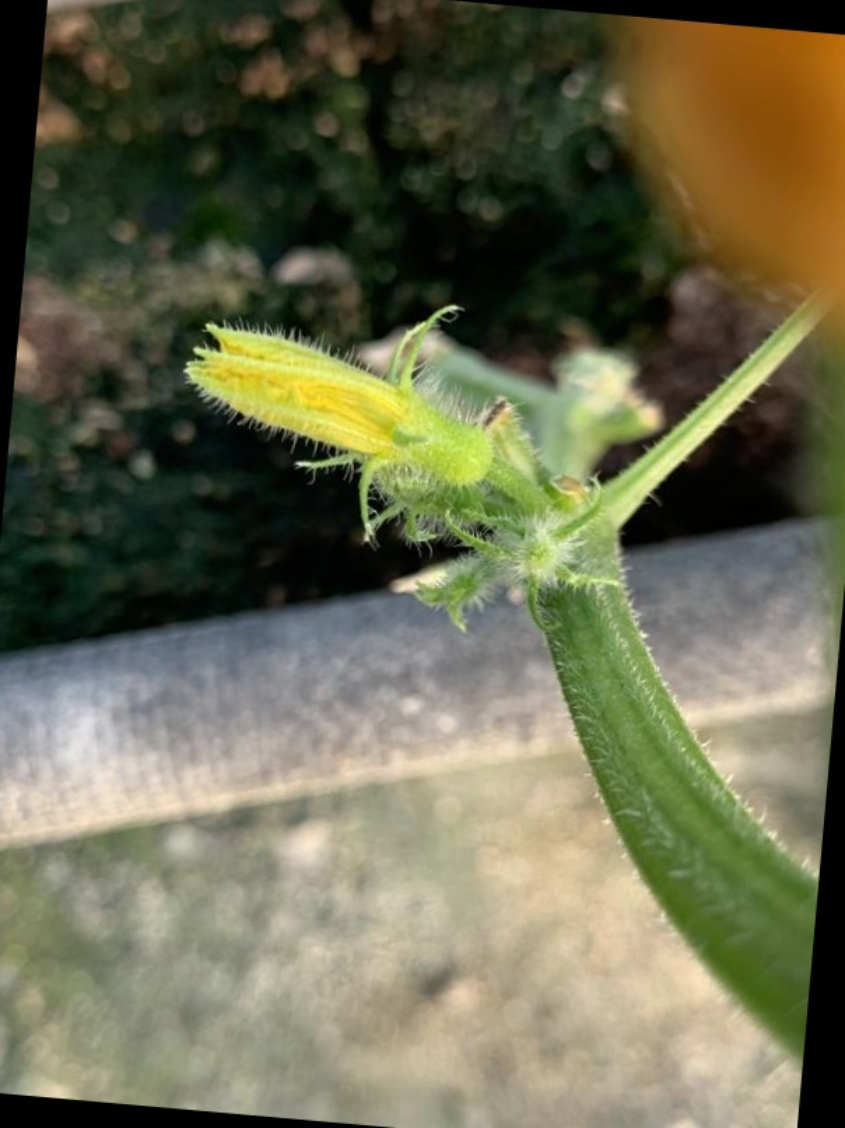bud: (181, 311, 540, 499)
